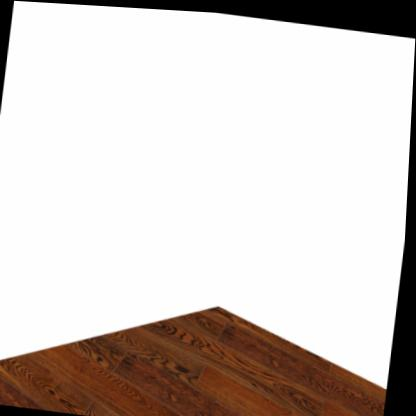Wooden floor: (0, 306, 391, 416)
